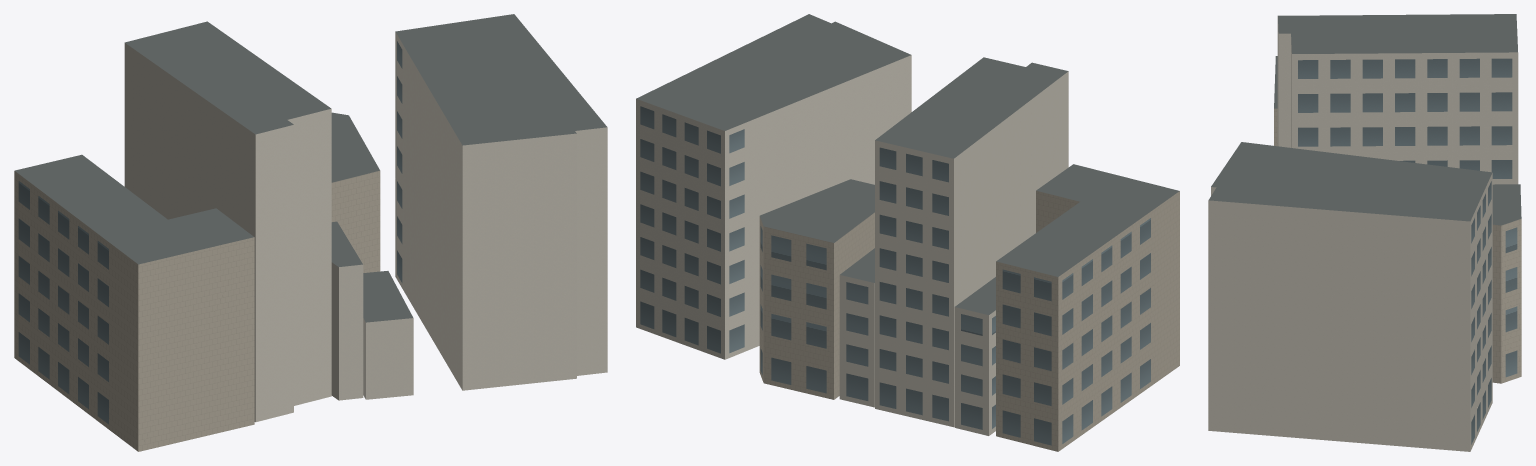
The picture shows the model from 3 angles, left to right: view 1: azimuth 30°, elevation 25°; view 2: azimuth 150°, elevation 25°; view 3: azimuth 270°, elevation 25°; orthographic projection. The views are drawn at different scales.
Parts seen in each view (by area): view 1: cell-e010-s001_base_plaster, cell-e010-s001_base_stone, cell-e010-s001_base_roof, cell-e010-s001_base_glass; view 2: cell-e010-s001_base_plaster, cell-e010-s001_base_roof, cell-e010-s001_base_glass, cell-e010-s001_base_stone; view 3: cell-e010-s001_base_plaster, cell-e010-s001_base_roof, cell-e010-s001_base_glass, cell-e010-s001_base_stone.
Part boxes in pixels (x1=…): cell-e010-s001_base_plaster: x1=124, y1=32, x2=607, y2=422; cell-e010-s001_base_stone: x1=14, y1=170, x2=380, y2=451; cell-e010-s001_base_roof: x1=15, y1=14, x2=606, y2=322; cell-e010-s001_base_glass: x1=18, y1=41, x2=402, y2=424; cell-e010-s001_base_plaster: x1=636, y1=55, x2=1068, y2=435; cell-e010-s001_base_roof: x1=636, y1=14, x2=1179, y2=314; cell-e010-s001_base_glass: x1=640, y1=106, x2=1150, y2=445; cell-e010-s001_base_stone: x1=759, y1=190, x2=1179, y2=451; cell-e010-s001_base_plaster: x1=1208, y1=16, x2=1518, y2=451; cell-e010-s001_base_roof: x1=1209, y1=14, x2=1521, y2=225; cell-e010-s001_base_glass: x1=1298, y1=58, x2=1517, y2=444; cell-e010-s001_base_stone: x1=1274, y1=108, x2=1521, y2=383.
Size of the model in its own units: 44.92 by 25.77 by 27.04.
Materials: 4 (3 with a texture image).
